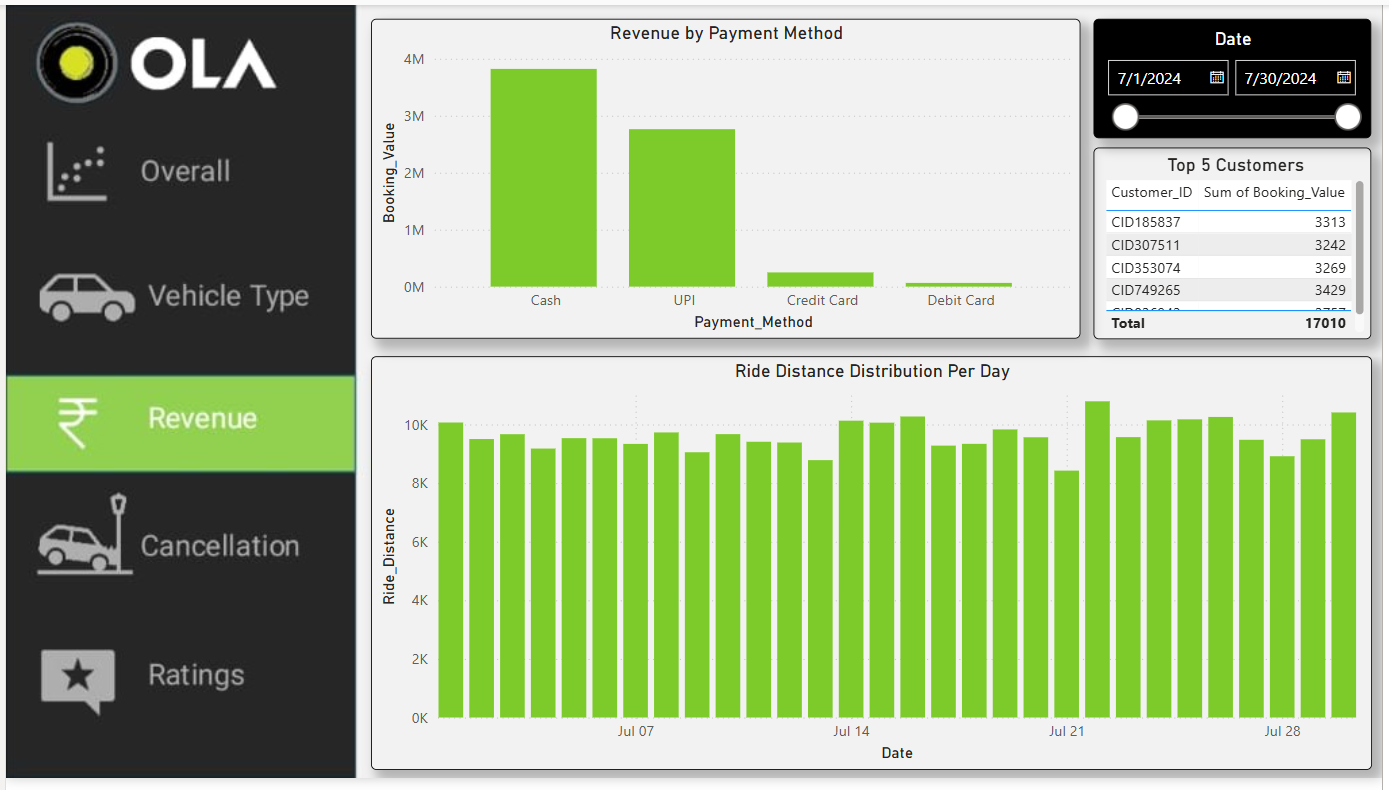

What the dashboard file says about the page in this screenshot:
{"tool":"powerbi","page":{"name":"Revenue","canvas":[1280,720],"ordinal":2},"visuals":[{"type":"actionButton","box":[0,235.3,324.5,90.5],"z":0},{"type":"actionButton","box":[0,451.2,323.3,91.7],"z":1000},{"type":"actionButton","box":[0,109.8,323.3,90.5],"z":2000},{"type":"actionButton","box":[0,577.9,325.7,90.5],"z":3000},{"type":"columnChart","title":"Revenue by Payment Method","fields":{"Category":["July_Cleaned.Payment_Method"],"Y":["Sum(July_Cleaned.Booking_Value)"]},"box":[339,13.3,659.9,298],"z":4000},{"type":"columnChart","title":"Ride Distance Distribution Per Day","fields":{"Y":["Sum(July_Cleaned.Ride_Distance)"],"Category":["July_Cleaned.Date"]},"box":[339,326.9,931.4,384.9],"z":5000},{"type":"slicer","title":"Date","fields":{"Values":["July_Cleaned.Date"]},"box":[1012.2,13.3,258.2,111],"z":6000},{"type":"tableEx","title":"Top 5 Customers","fields":{"Values":["July_Cleaned.Customer_ID","Sum(July_Cleaned.Booking_Value)"]},"box":[1012.2,132.7,258.2,178.6],"z":7000}]}

Visuals, with their boxes in screenshot pixels (x1, y1, x2, y2), scaled from the page's 1280x720 canvas onto the 1389x790 screenshot:
actionButton: locate(0, 258, 352, 357)
actionButton: locate(0, 495, 351, 596)
actionButton: locate(0, 120, 351, 220)
actionButton: locate(0, 634, 353, 733)
"Revenue by Payment Method" columnChart: locate(368, 15, 1084, 342)
"Ride Distance Distribution Per Day" columnChart: locate(368, 359, 1379, 781)
"Date" slicer: locate(1098, 15, 1379, 136)
"Top 5 Customers" tableEx: locate(1098, 146, 1379, 342)
